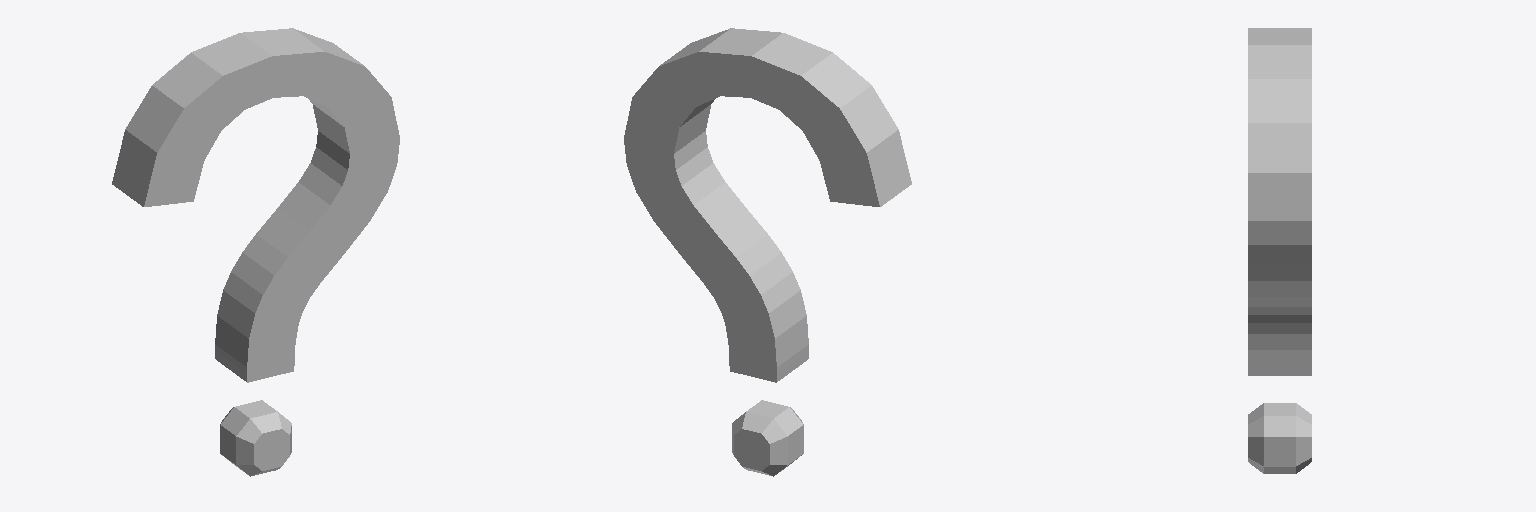
File: question.obj
3 views of the same model, side by side, from view 1: azimuth 30°, elevation 25°; view 2: azimuth 150°, elevation 25°; view 3: azimuth 270°, elevation 25° (orthographic).
Visible parts, largest first — view 1: Mesh_question_question_auv; view 2: Mesh_question_question_auv; view 3: Mesh_question_question_auv.
Boxes of the visible parts, x1=… form: Mesh_question_question_auv: x1=112, y1=28, x2=399, y2=476; Mesh_question_question_auv: x1=624, y1=28, x2=911, y2=476; Mesh_question_question_auv: x1=1248, y1=28, x2=1311, y2=473.
Size of the model in its own units: 1.85 by 2.91 by 0.4.